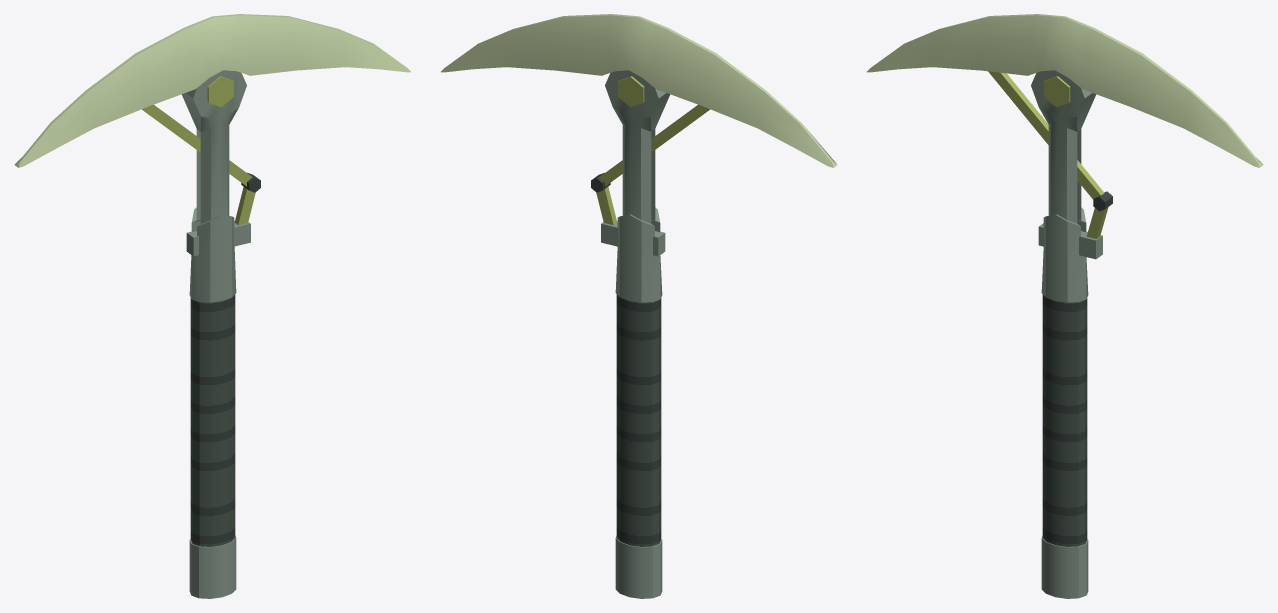
The model's file is mdlMinerPickaxe.fbx.
The picture shows the model from 3 angles, left to right: view 1: azimuth 30°, elevation 25°; view 2: azimuth 150°, elevation 25°; view 3: azimuth 330°, elevation 25°; orthographic projection.
Parts seen in each view (by area): view 1: MeshMinerPickaxe; view 2: MeshMinerPickaxe; view 3: MeshMinerPickaxe.
Part boxes in pixels (x1,y1,x2,y2): MeshMinerPickaxe: (14, 14, 410, 598); MeshMinerPickaxe: (441, 14, 837, 598); MeshMinerPickaxe: (867, 14, 1263, 598).
Bounding box in the file's own units: 18.25 × 25.44 × 1.64.
